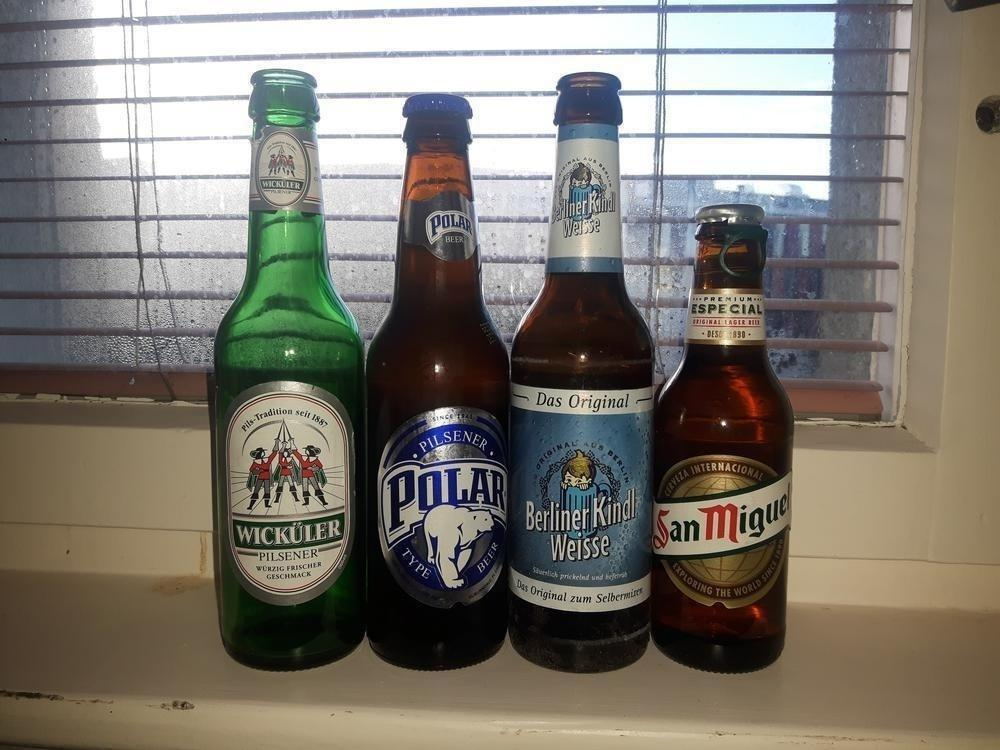bottle-glass: (212, 67, 365, 673), (513, 70, 657, 675), (365, 92, 513, 673), (655, 202, 797, 676)
